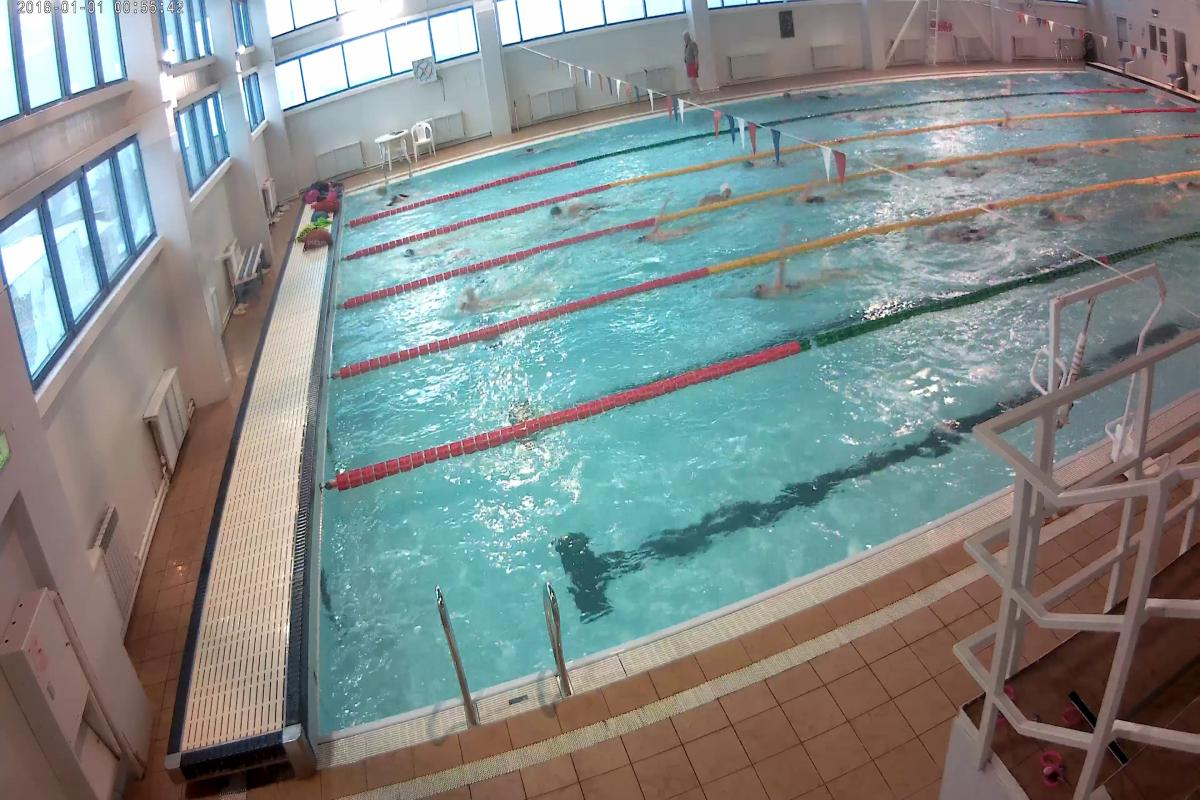swimmer: (737, 258, 856, 292), (455, 285, 531, 319), (634, 214, 716, 239), (547, 199, 611, 230), (936, 213, 999, 242), (950, 158, 990, 193), (696, 174, 744, 202), (791, 186, 841, 211), (1032, 204, 1080, 225), (743, 156, 797, 173), (1020, 150, 1063, 167), (1145, 190, 1169, 219), (996, 115, 1023, 131)
